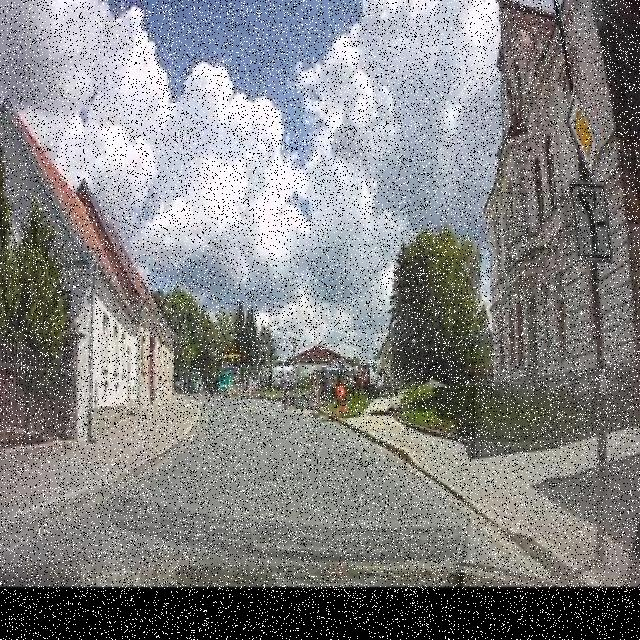clear-road: (125, 397, 457, 519)
